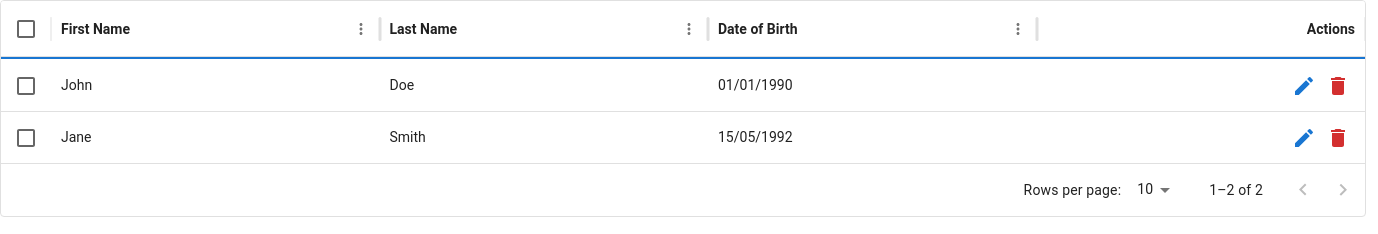
UserTable › shows 1 row selected text when 1 user is selected
Expected: the text "John" is shown, x1=61 y1=77 x2=92 y2=93
Expected: the text "Jane" is shown, x1=51 y1=111 x2=380 y2=163
# Select first user
What coordinates should you click on to do the following:
click the checkbox named "Select row"
I would click on:
 (26, 86)
Its box is x1=14 y1=74 x2=38 y2=98.
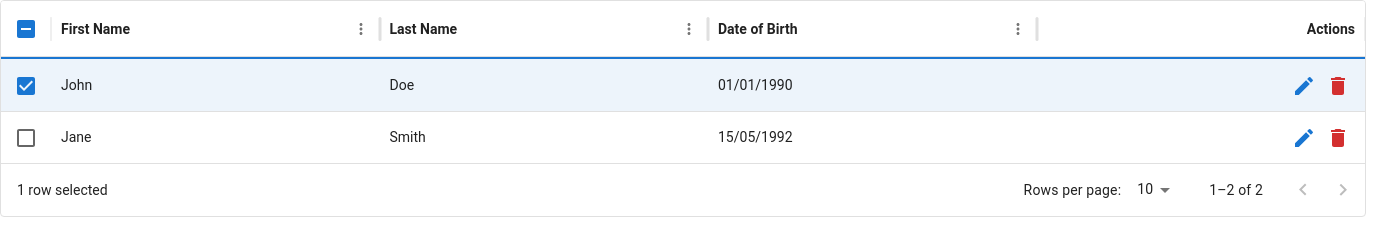
Expected: the text "1 row selected" is shown, x1=17 y1=180 x2=108 y2=200
